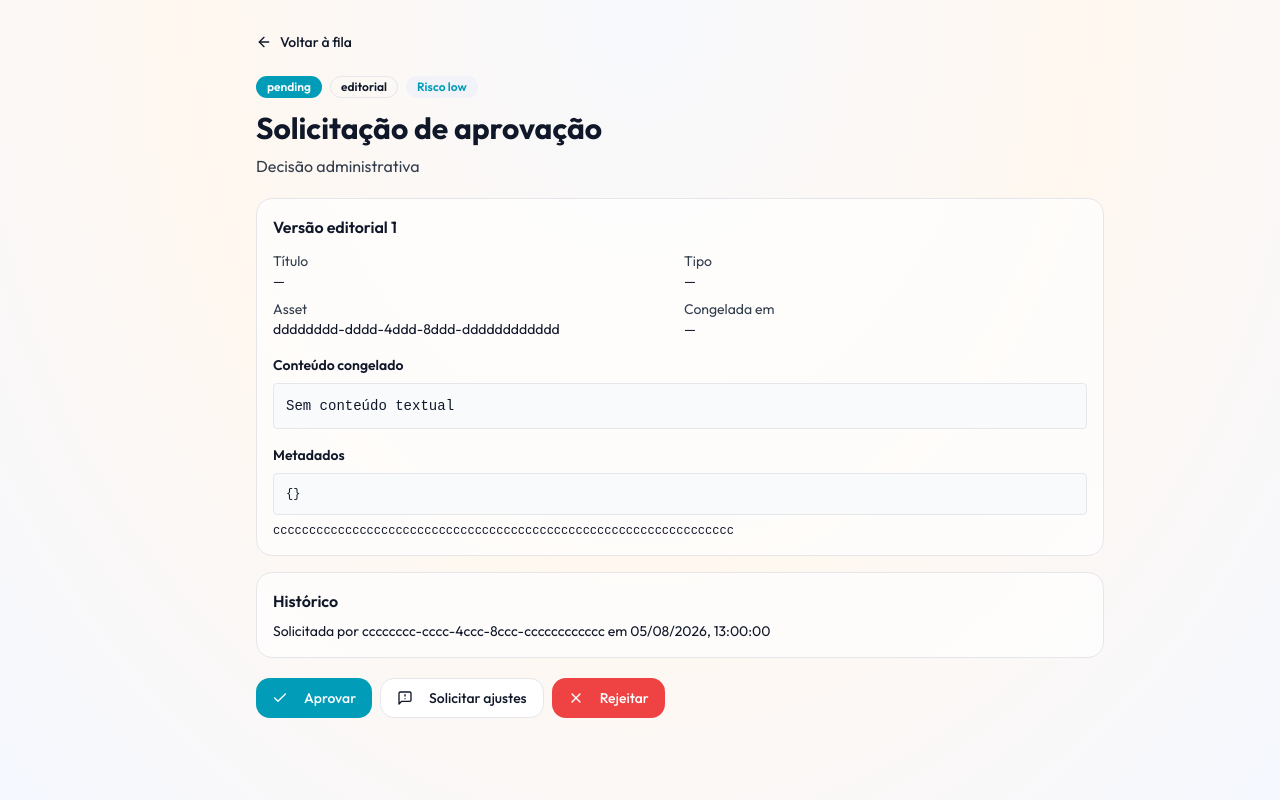
Scenario: ApprovalDetailPage › distinguishes an internal decision failure from a version conflict
The image size is (1280, 800).
Step 1. Click the button "Aprovar" → click(314, 698), box [256, 678, 372, 718]
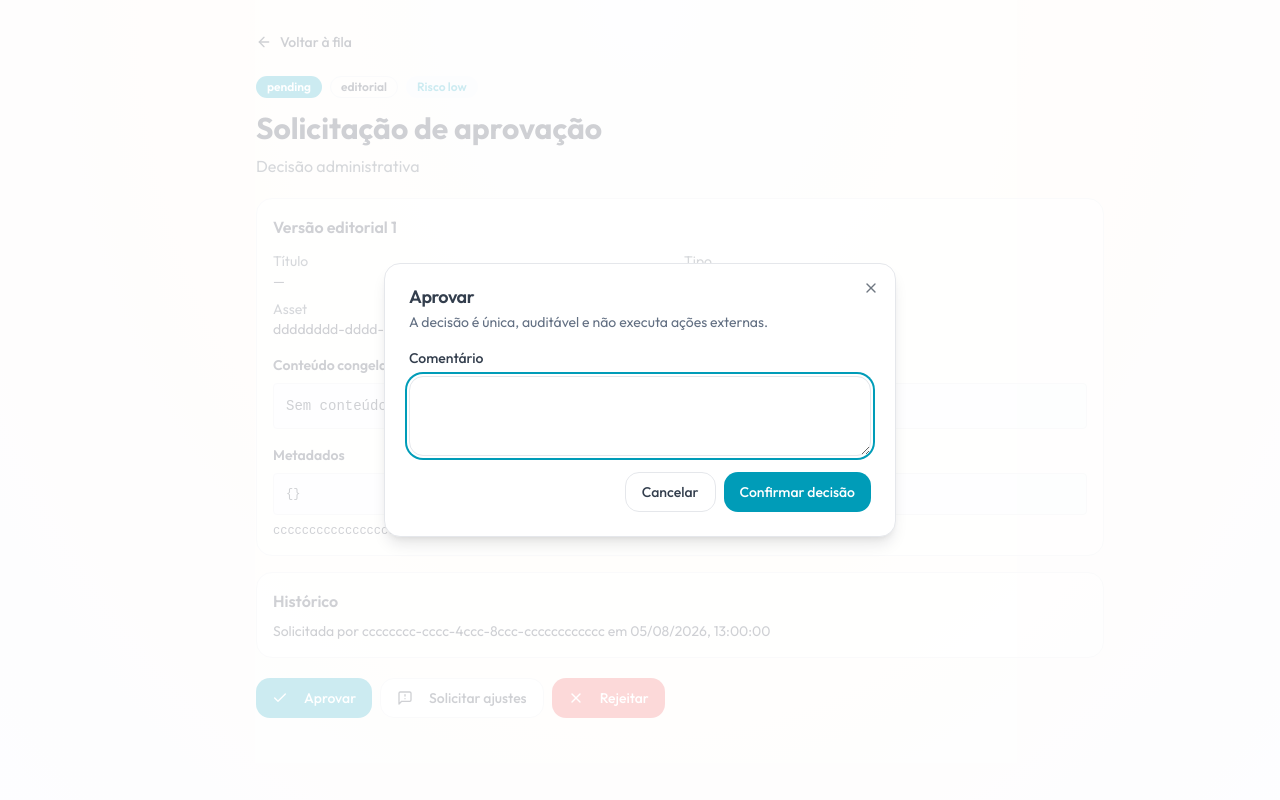
Step 2. Click the button "Confirmar decisão" → click(797, 492), box [724, 472, 871, 512]
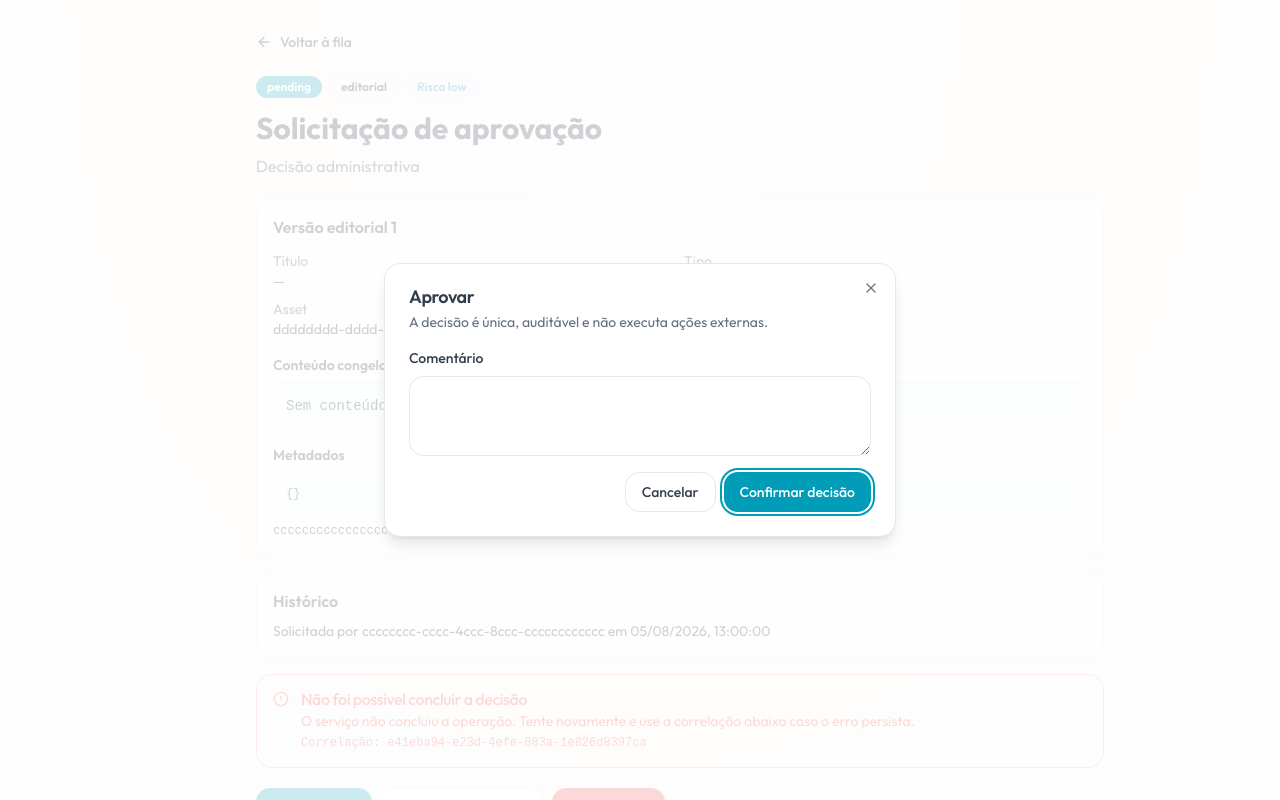
Expected: the heading "Não foi possível concluir a decisão" is shown, [301, 689, 527, 709]
Expected: the text "Correlação: e41eba94-e23d-4efe-883a-1e826d8397ca" is shown, [301, 736, 647, 750]
